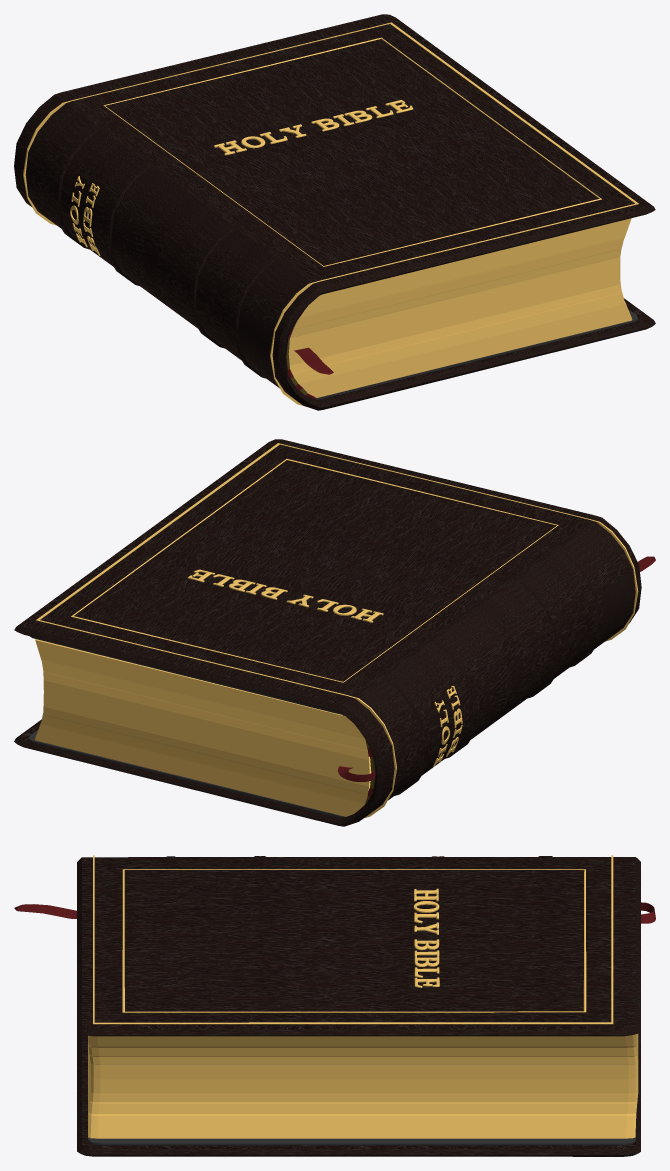
3 renders of one model, top to bottom at view 1: azimuth 30°, elevation 25°; view 2: azimuth 150°, elevation 25°; view 3: azimuth 270°, elevation 25°, orthographic. The views are drawn at different scales.
Parts seen in each view (by area): view 1: hard cover, golden pages, Frame 2, Frame 1, TEXT 1, empastado 2.001, TEXT 2; view 2: hard cover, golden pages, Frame 2, empastado 2.001, Frame 1, TEXT 1, TEXT 2; view 3: hard cover, golden pages, empastado 2.001, Frame 2, Frame 1, TEXT 1, bookmark.001.
Boxes of the visible parts, left/top/right/bottom form: hard cover: left=14, top=14, right=655, bottom=410; golden pages: left=288, top=218, right=632, bottom=397; Frame 2: left=23, top=22, right=638, bottom=406; Frame 1: left=103, top=37, right=601, bottom=266; TEXT 1: left=214, top=100, right=413, bottom=155; empastado 2.001: left=315, top=309, right=637, bottom=399; TEXT 2: left=70, top=176, right=100, bottom=255; hard cover: left=14, top=439, right=641, bottom=826; golden pages: left=35, top=639, right=371, bottom=816; Frame 2: left=36, top=443, right=638, bottom=817; empastado 2.001: left=28, top=636, right=344, bottom=817; Frame 1: left=71, top=459, right=558, bottom=682; TEXT 1: left=187, top=569, right=383, bottom=622; TEXT 2: left=433, top=686, right=462, bottom=766; hard cover: left=77, top=856, right=640, bottom=1156; golden pages: left=88, top=1033, right=638, bottom=1138; empastado 2.001: left=88, top=1137, right=635, bottom=1145; Frame 2: left=93, top=855, right=613, bottom=1024; Frame 1: left=122, top=869, right=586, bottom=1012; TEXT 1: left=413, top=888, right=439, bottom=987; bookmark.001: left=14, top=902, right=655, bottom=923.
Size of the model in its own units: 690 by 218 by 955.
5 materials, 2 textured.
